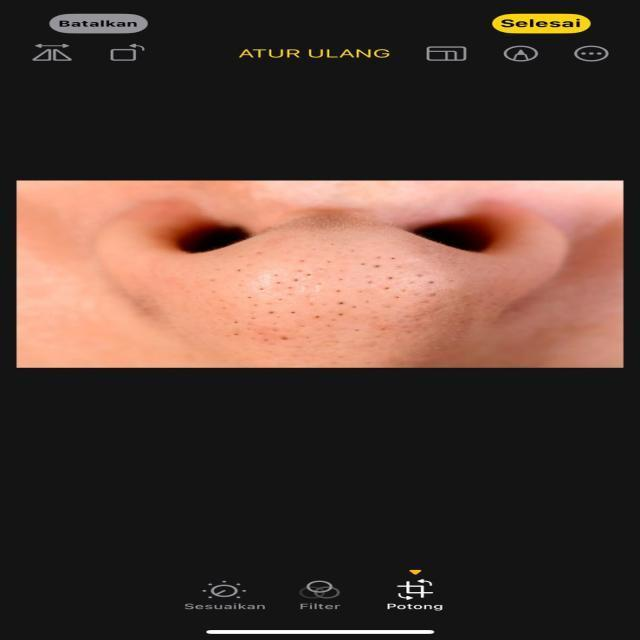blackhead: (185, 245, 473, 351)
